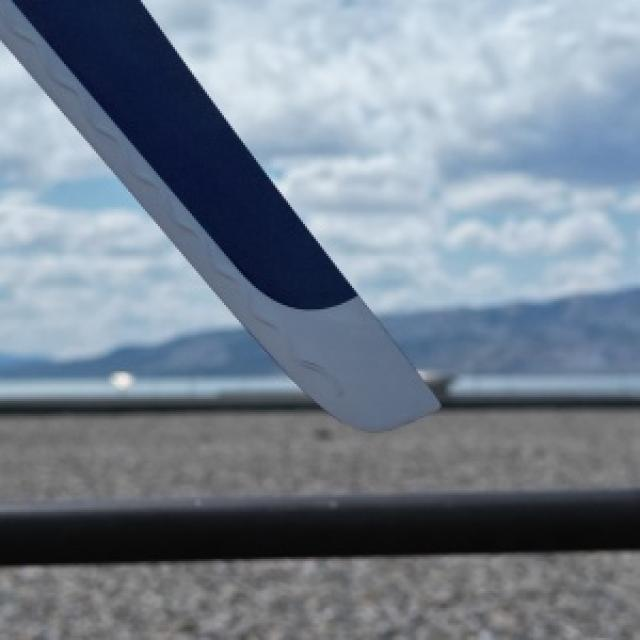healthy: (0, 0, 435, 429)
